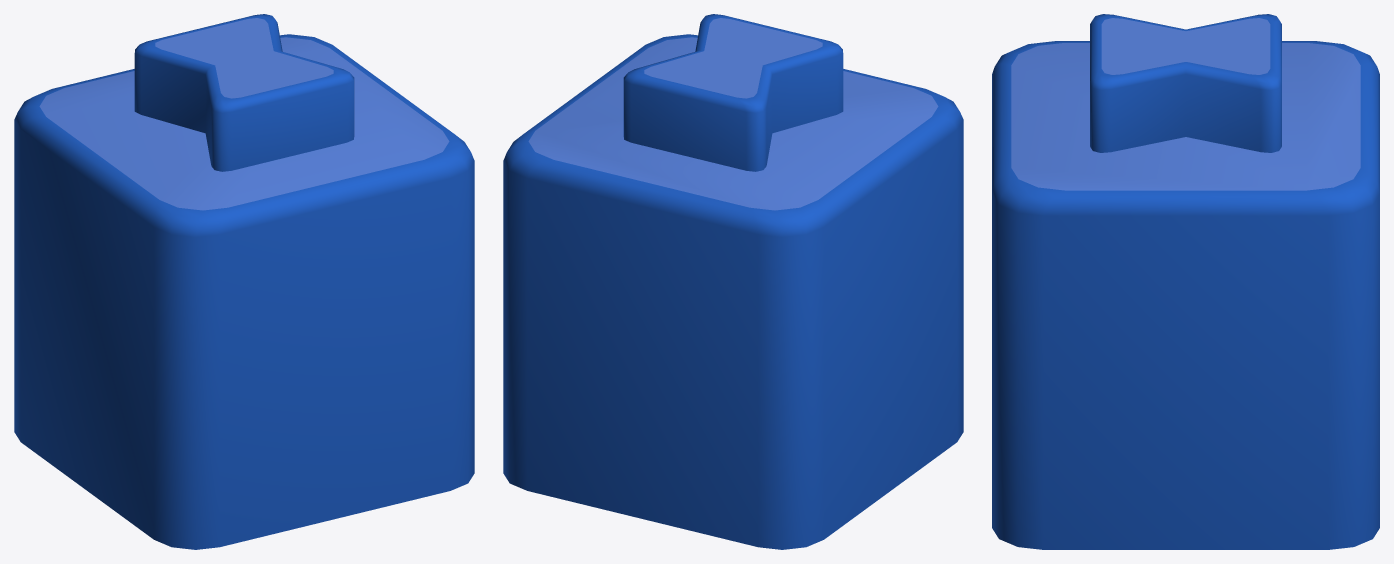
File: block_rec.fbx
3 views of the same model, side by side, from view 1: azimuth 30°, elevation 25°; view 2: azimuth 150°, elevation 25°; view 3: azimuth 270°, elevation 25° (orthographic). The views are drawn at different scales.
Visible parts, largest first — view 1: block_rec; view 2: block_rec; view 3: block_rec.
Part boxes in pixels (bbox=[...]): block_rec: bbox=[14, 14, 474, 549]; block_rec: bbox=[503, 14, 963, 549]; block_rec: bbox=[992, 14, 1379, 549].
Bounding box in the file's own units: 100 × 100 × 120.
